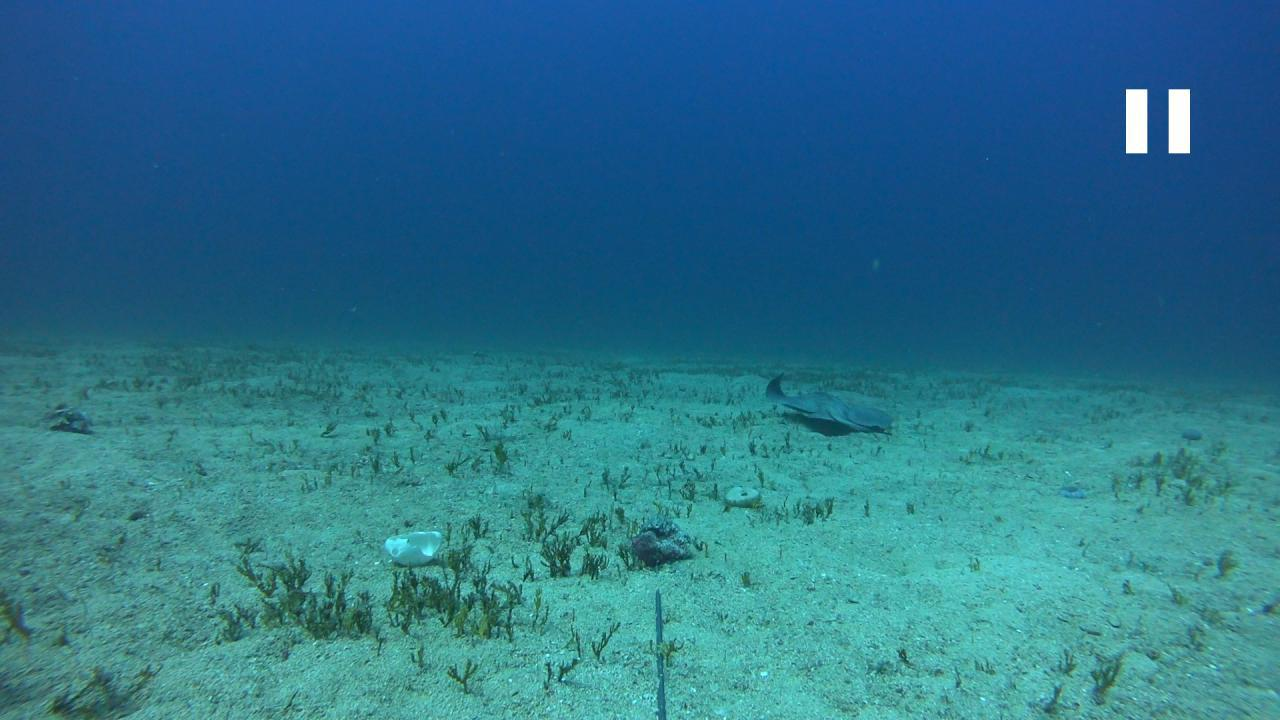dasyatis: (764, 372, 894, 434)
